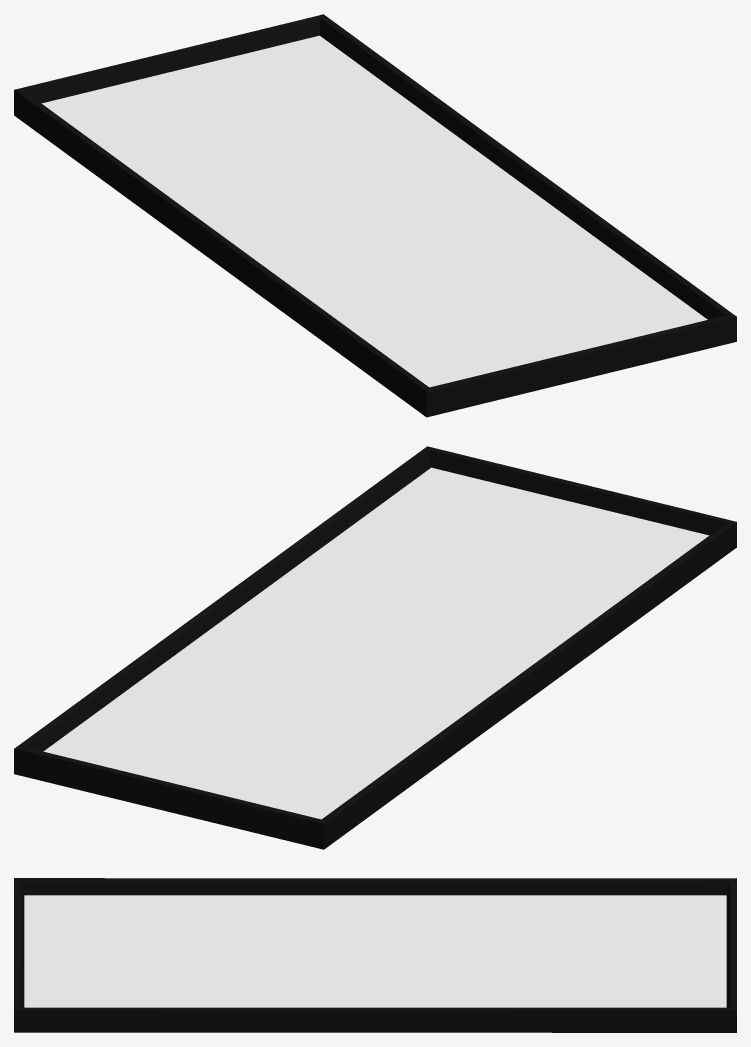
The model's file is NISSEDAL Miroir, noir, 65x150 cm.glb.
3 views of the same model, one above another, from view 1: azimuth 30°, elevation 25°; view 2: azimuth 150°, elevation 25°; view 3: azimuth 270°, elevation 25° (orthographic). The views are drawn at different scales.
Parts seen in each view (by area): view 1: 70320319-NISSEDAL001; view 2: 70320319-NISSEDAL001; view 3: 70320319-NISSEDAL001.
Boxes of the visible parts, x1,y1,x2,y2 form: 70320319-NISSEDAL001: (14,14,736,417); 70320319-NISSEDAL001: (14,446,736,849); 70320319-NISSEDAL001: (14,878,736,1032).
Size of the model in its own units: 0.65 by 0.0535 by 1.5.
1 material, 1 textured.
